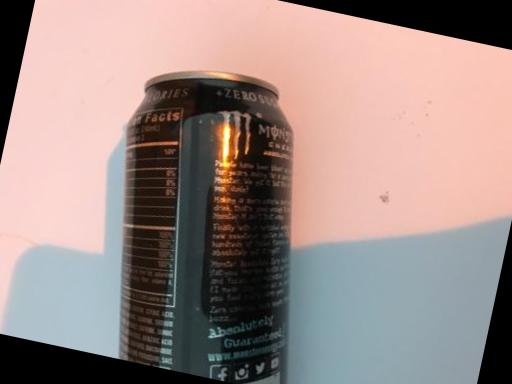metal: (59, 37, 421, 384)
